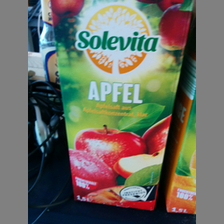juice: (50, 1, 192, 212)
